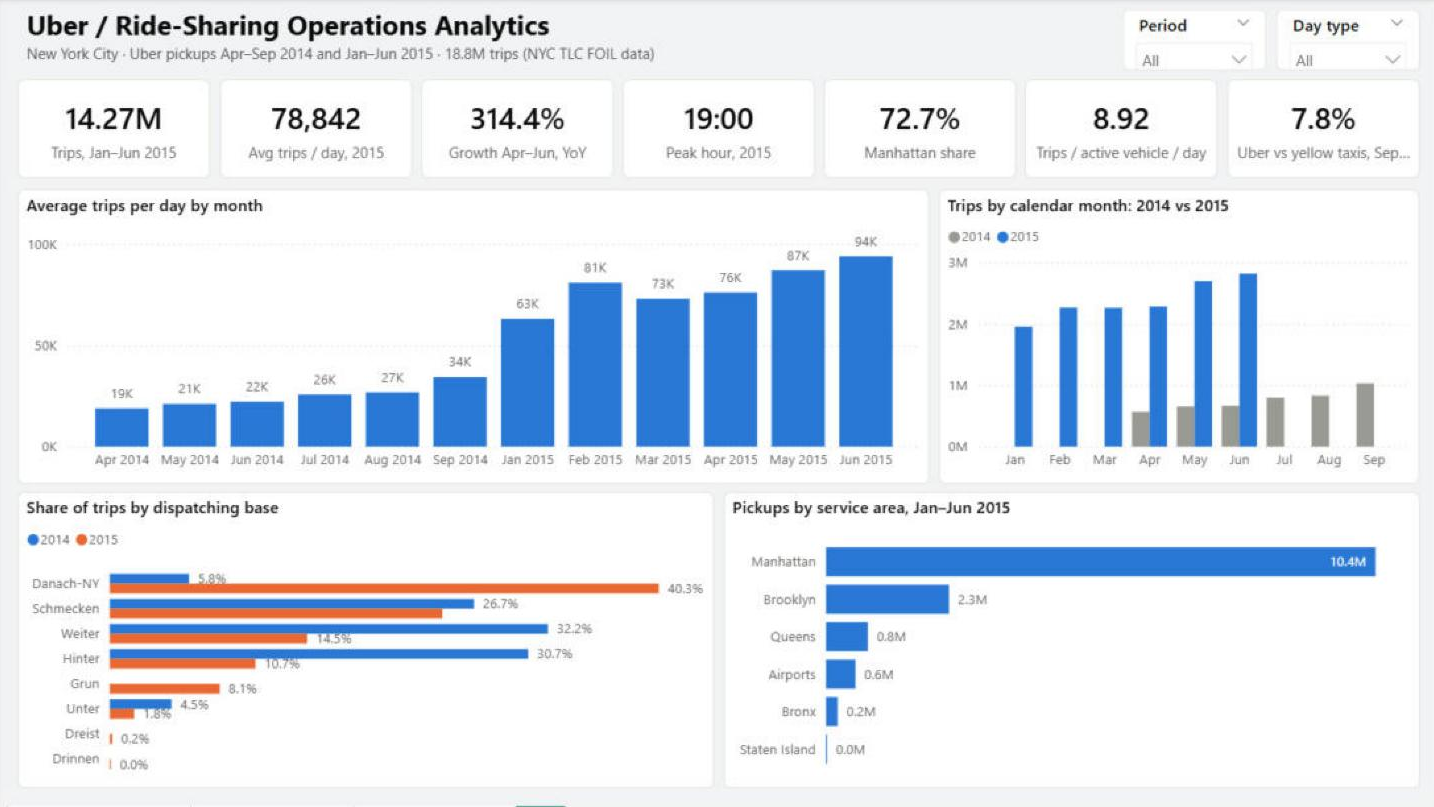

This screenshot's page, from the dashboard's own definition file:
{"tool":"powerbi","page":{"name":"Executive Overview","canvas":[1280,720],"ordinal":0},"visuals":[{"type":"textbox","box":[16,8,976,56],"z":1000},{"type":"slicer","fields":{"Values":["Date.Period"]},"box":[1000,10,128,54],"z":2000},{"type":"slicer","fields":{"Values":["Date.Day Type"]},"box":[1136,10,128,54],"z":3000},{"type":"card","fields":{"Values":["_Measures.Trips 2015"]},"box":[16,72,171.4,88],"z":4000},{"type":"card","fields":{"Values":["_Measures.Avg Trips per Day 2015"]},"box":[195.4,72,171.4,88],"z":5000},{"type":"card","fields":{"Values":["_Measures.YoY Growth Apr-Jun %"]},"box":[374.9,72,171.4,88],"z":6000},{"type":"card","fields":{"Values":["_Measures.Peak Hour 2015"]},"box":[554.3,72,171.4,88],"z":7000},{"type":"card","fields":{"Values":["_Measures.Manhattan Share %"]},"box":[733.7,72,171.4,88],"z":8000},{"type":"card","fields":{"Values":["_Measures.Trips per Active Vehicle per Day"]},"box":[913.1,72,171.4,88],"z":9000},{"type":"card","fields":{"Values":["_Measures.Uber vs Yellow Sep 2014"]},"box":[1092.6,72,171.4,88],"z":10000},{"type":"clusteredColumnChart","title":"Average trips per day by month","fields":{"Category":["Date.Month"],"Y":["_Measures.Avg Trips per Day"]},"box":[16,170,812,262],"z":11000},{"type":"clusteredColumnChart","title":"Trips by calendar month: 2014 vs 2015","fields":{"Category":["Date.Month Name"],"Y":["_Measures.Trips 2014","_Measures.Trips 2015"]},"box":[836,170,428,262],"z":12000},{"type":"clusteredBarChart","title":"Share of trips by dispatching base","fields":{"Category":["dim_base.base_name"],"Series":["Date.Year"],"Y":["_Measures.Base Share %"]},"box":[16,440,620,264],"z":13000},{"type":"clusteredBarChart","title":"Pickups by service area, Jan–Jun 2015","fields":{"Category":["dim_zone.service_area"],"Y":["_Measures.Zone Trips (Known)"]},"box":[644,440,620,264],"z":14000}]}

Visuals, with their boxes in screenshot pixels (x1, y1, x2, y2), scaled from the page's 1280x720 canvas onto the 1434x807 screenshot:
textbox: Rect(18, 9, 1111, 72)
slicer - Date.Period: Rect(1120, 11, 1264, 72)
slicer - Date.Day Type: Rect(1273, 11, 1416, 72)
card - _Measures.Trips 2015: Rect(18, 81, 210, 179)
card - _Measures.Avg Trips per Day 2015: Rect(219, 81, 411, 179)
card - _Measures.YoY Growth Apr-Jun %: Rect(420, 81, 612, 179)
card - _Measures.Peak Hour 2015: Rect(621, 81, 813, 179)
card - _Measures.Manhattan Share %: Rect(822, 81, 1014, 179)
card - _Measures.Trips per Active Vehicle per Day: Rect(1023, 81, 1215, 179)
card - _Measures.Uber vs Yellow Sep 2014: Rect(1224, 81, 1416, 179)
"Average trips per day by month" clusteredColumnChart: Rect(18, 191, 928, 484)
"Trips by calendar month: 2014 vs 2015" clusteredColumnChart: Rect(937, 191, 1416, 484)
"Share of trips by dispatching base" clusteredBarChart: Rect(18, 493, 713, 789)
"Pickups by service area, Jan–Jun 2015" clusteredBarChart: Rect(721, 493, 1416, 789)
